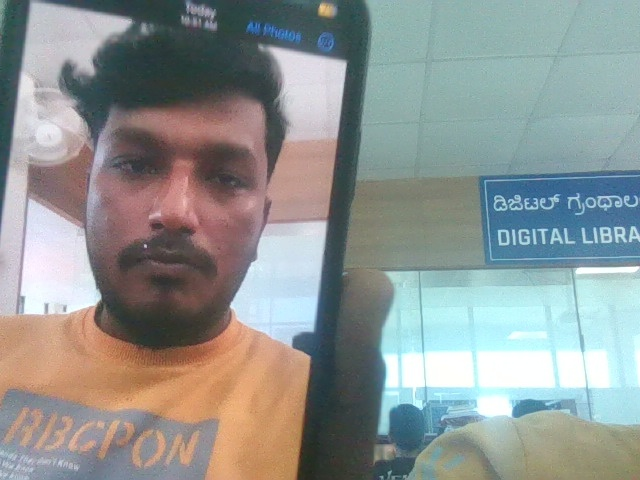fake: (57, 0, 306, 353)
